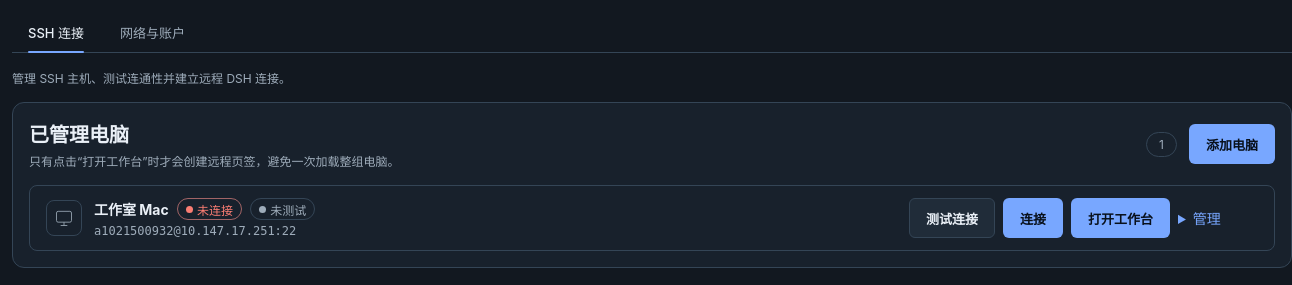
Scenario: RemoteConnectionsPanel › runs a full connection test and renders red/green semantic state
Check: the element with class "remote-status" reads "未连接", box [197, 203, 233, 218]
Click the button with test id "remote-test-connection".
click(952, 218)  # box [909, 198, 995, 238]
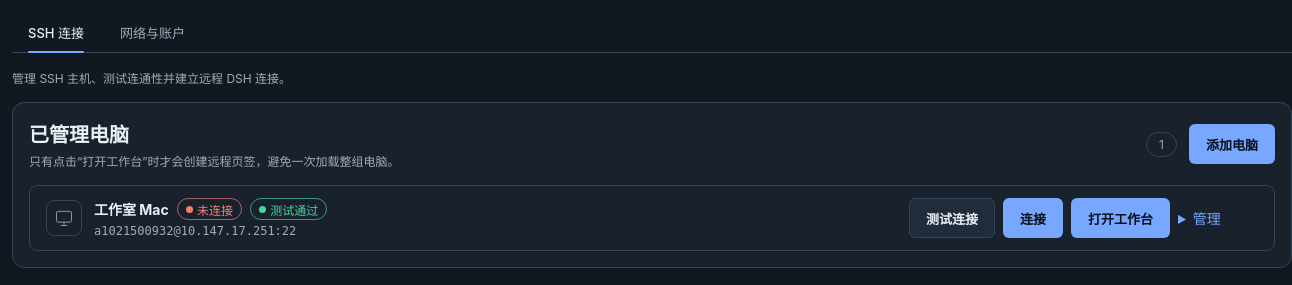
Check: the element with class "remote-test-status" reads "测试通过", box [270, 203, 318, 218]
